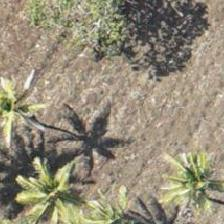coconut_tree: (12, 142, 102, 223), (0, 58, 45, 148)
